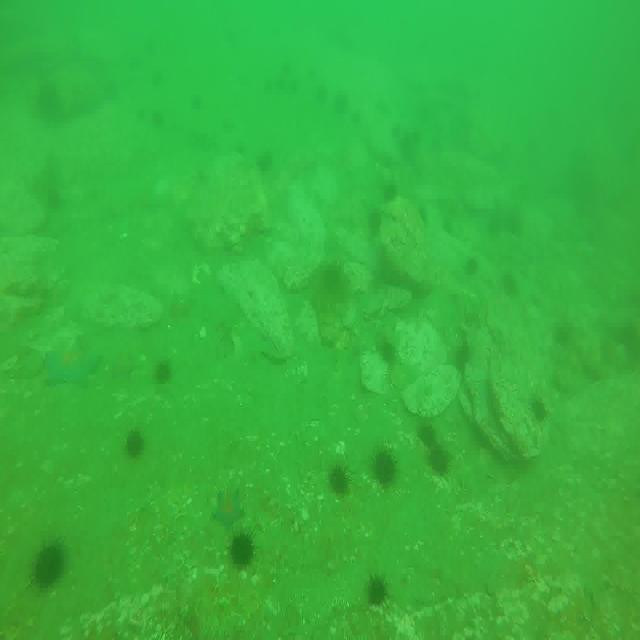echinus: (32, 539, 66, 588), (371, 445, 398, 490), (230, 531, 254, 569), (426, 443, 450, 478), (364, 574, 389, 606), (528, 392, 550, 428), (330, 460, 350, 495), (416, 424, 439, 453), (454, 344, 476, 374), (124, 428, 146, 454), (379, 338, 397, 366), (365, 208, 382, 235), (463, 257, 481, 282), (154, 360, 172, 385), (502, 272, 520, 296), (256, 152, 274, 174), (382, 180, 398, 202)
starfish: (45, 337, 98, 388), (210, 489, 244, 528)
